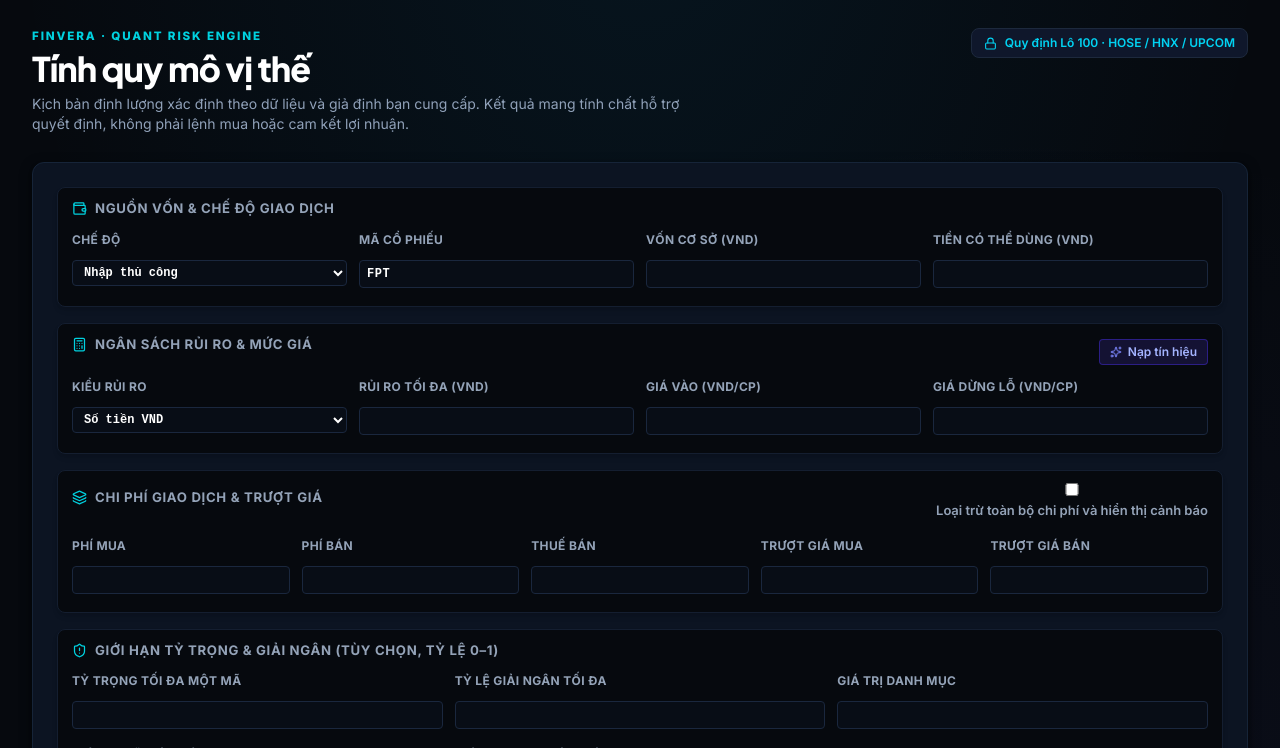
Test: PositionSizingPage › imports an exact current signal, requires confirmation, and can return to manual prices
The image size is (1280, 748).
Click the button "Nạp tín hiệu" at (1153, 352), box [1099,339,1208,365]
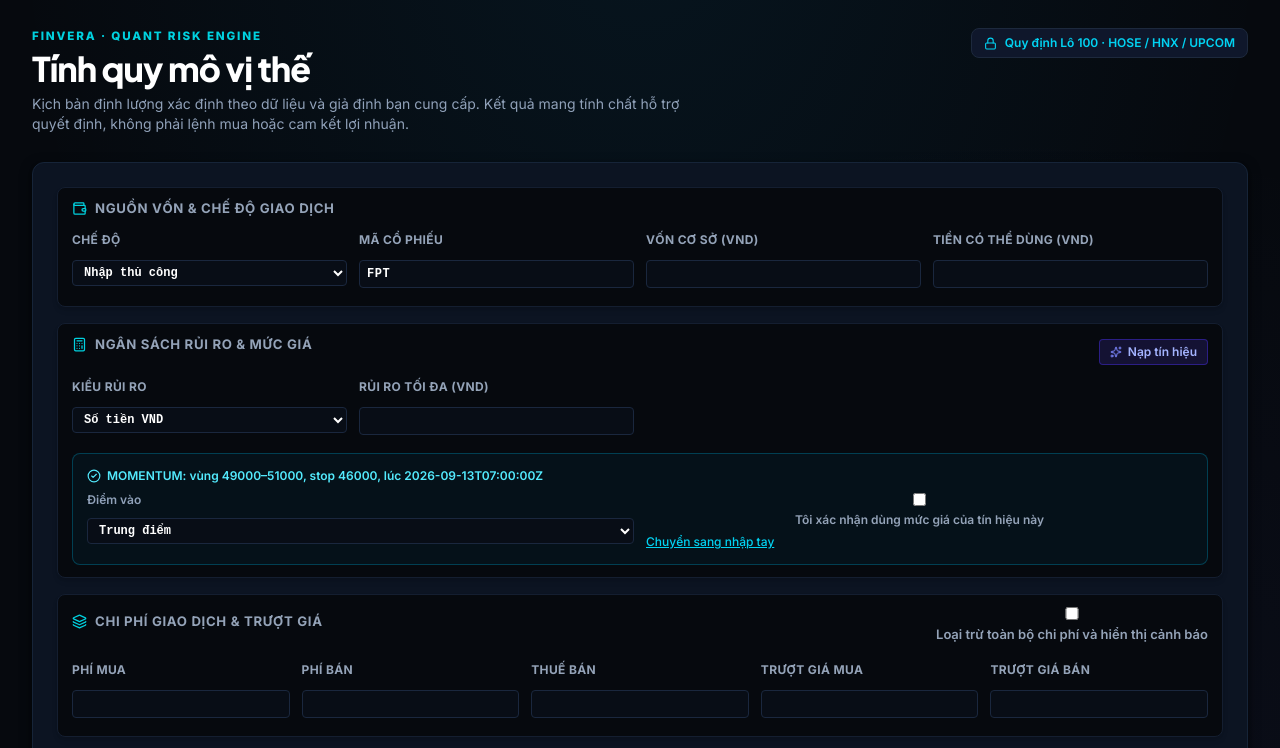
Now the text "MOMENTUM: vùng 49000–51000" is shown, box [107,468,543,484]
Now the text labelled "Giá vào (VND/cp)" is gone
Click the button "Chuyển sang nhập tay" at (710, 542), box [646,534,1193,550]
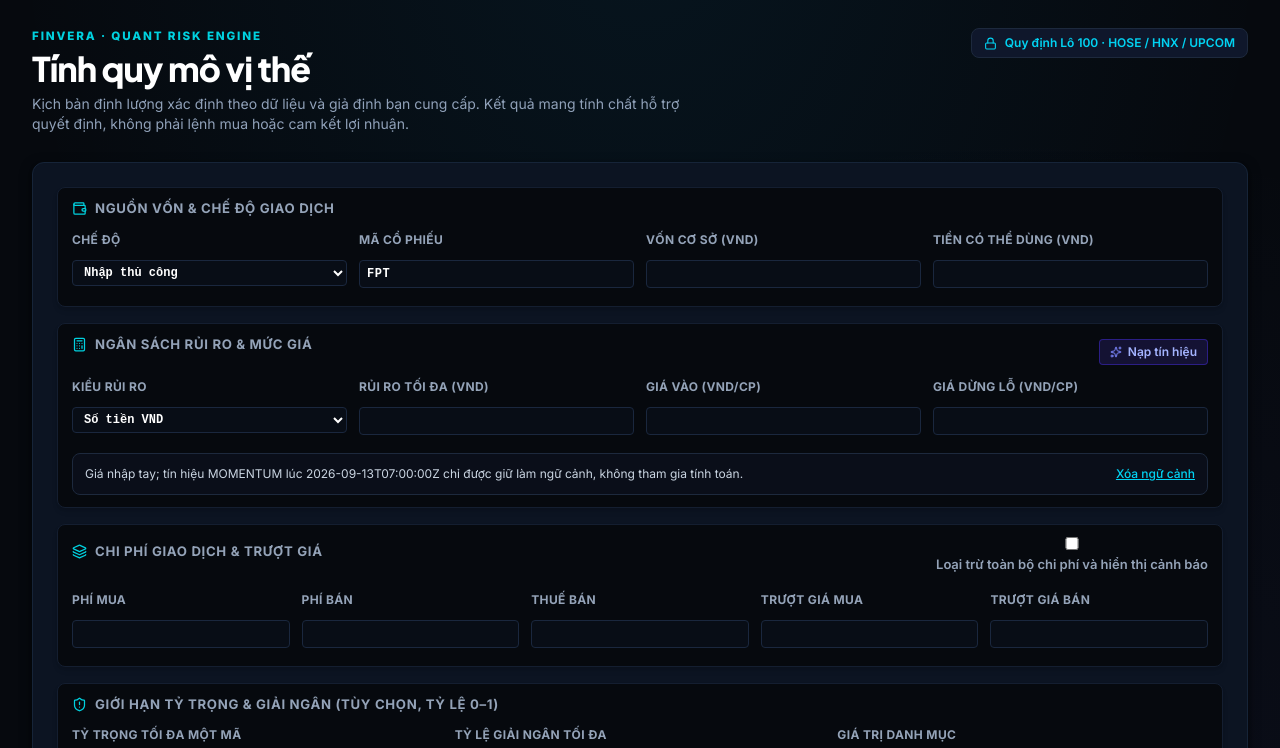
Now the text "chỉ được giữ làm ngữ cảnh, không tham gia tính toán" is shown, box [440,466,743,481]
